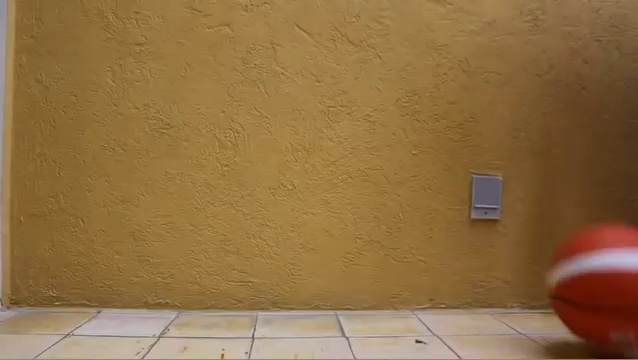ball: (544, 220, 638, 351)
